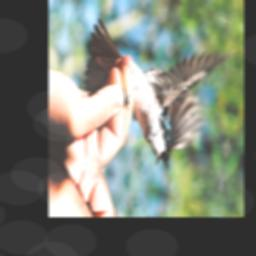Swallow: (75, 0, 239, 194)
